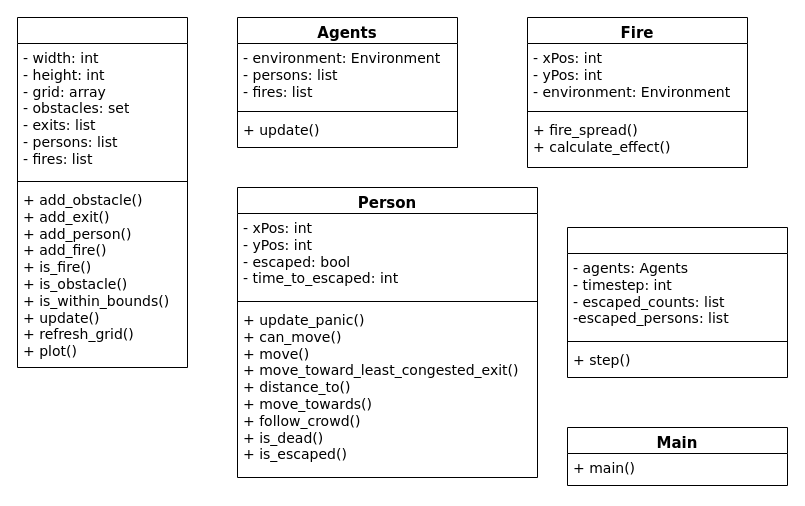
The diagram is 805 pixels wide and 506 high, and some of its shapes have lost their labels. Here are the shapes that lost their labels. From the top down, the box of each, then its label:
(16, 16, 188, 368): Environment
(566, 226, 788, 378): Simulation
